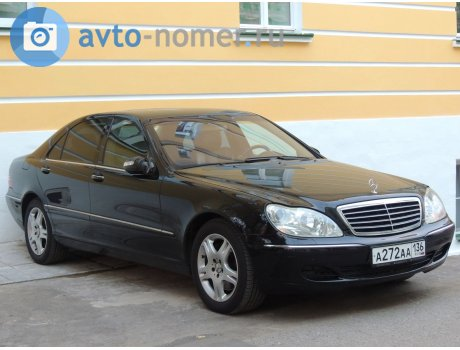car license plate: (369, 240, 427, 266)
